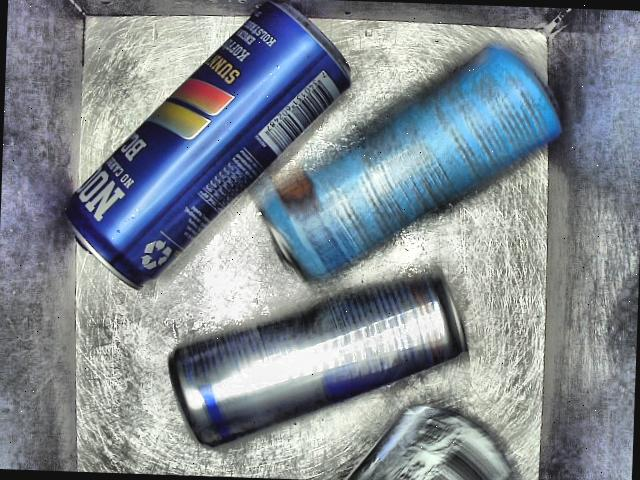Bottles: (60, 0, 348, 307), (257, 39, 564, 323), (152, 262, 478, 464), (337, 395, 553, 480)
